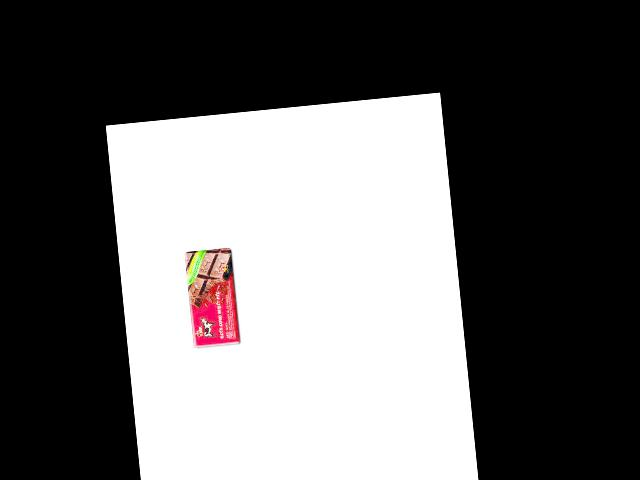chocolate: (182, 246, 245, 351)
